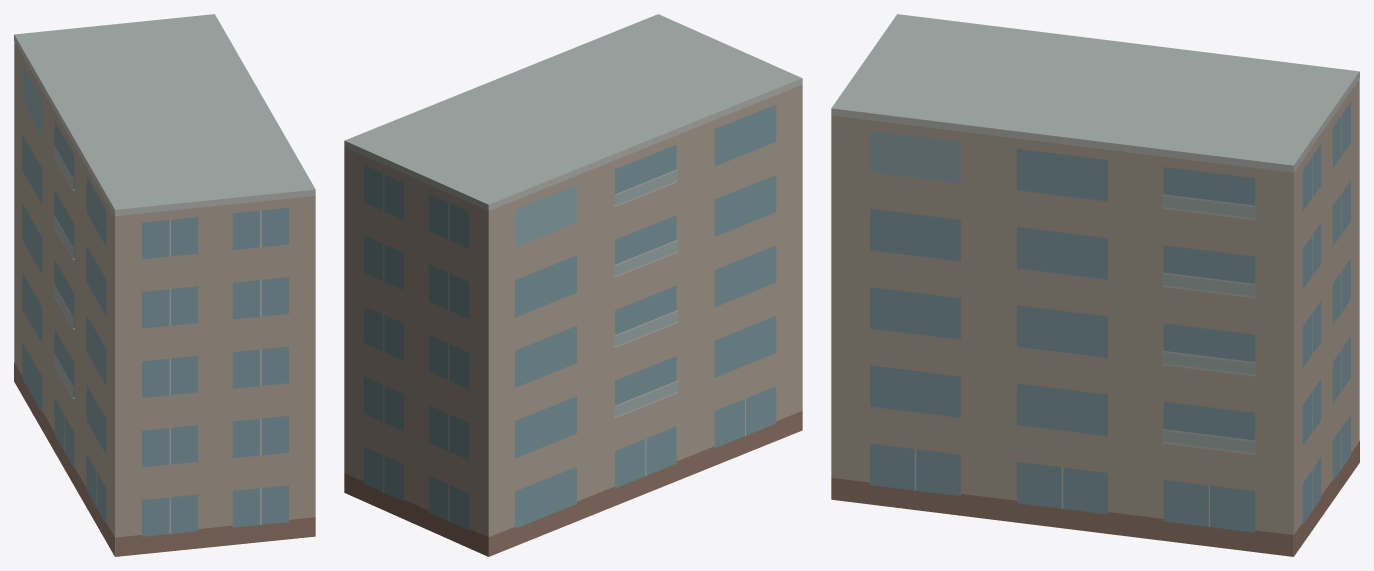
Rendered from survey-upis-32873386.glb.
The picture shows the model from 3 angles, left to right: view 1: azimuth 30°, elevation 25°; view 2: azimuth 150°, elevation 25°; view 3: azimuth 270°, elevation 25°; orthographic projection. The views are drawn at different scales.
Parts seen in each view (by area): view 1: survey-upis-32873386.tmp; view 2: survey-upis-32873386.tmp; view 3: survey-upis-32873386.tmp.
Boxes of the visible parts, x1=… form: survey-upis-32873386.tmp: x1=14, y1=14, x2=315, y2=556; survey-upis-32873386.tmp: x1=344, y1=14, x2=802, y2=556; survey-upis-32873386.tmp: x1=831, y1=14, x2=1359, y2=556.
Size of the model in its own units: 11.15 by 13.4 by 16.42.
